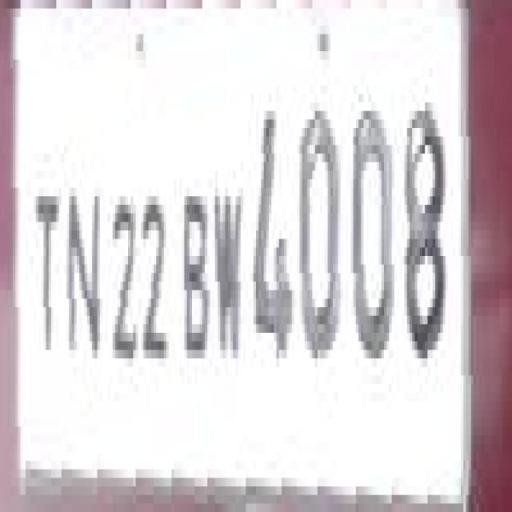number plate: (5, 0, 486, 470)
